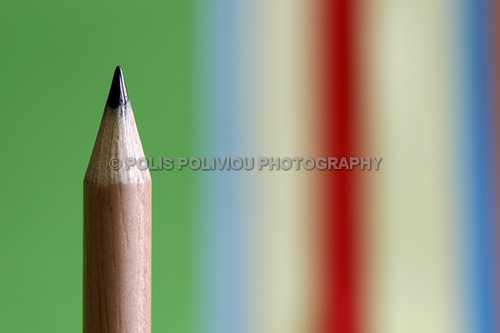pen_tip: (79, 61, 162, 207)
